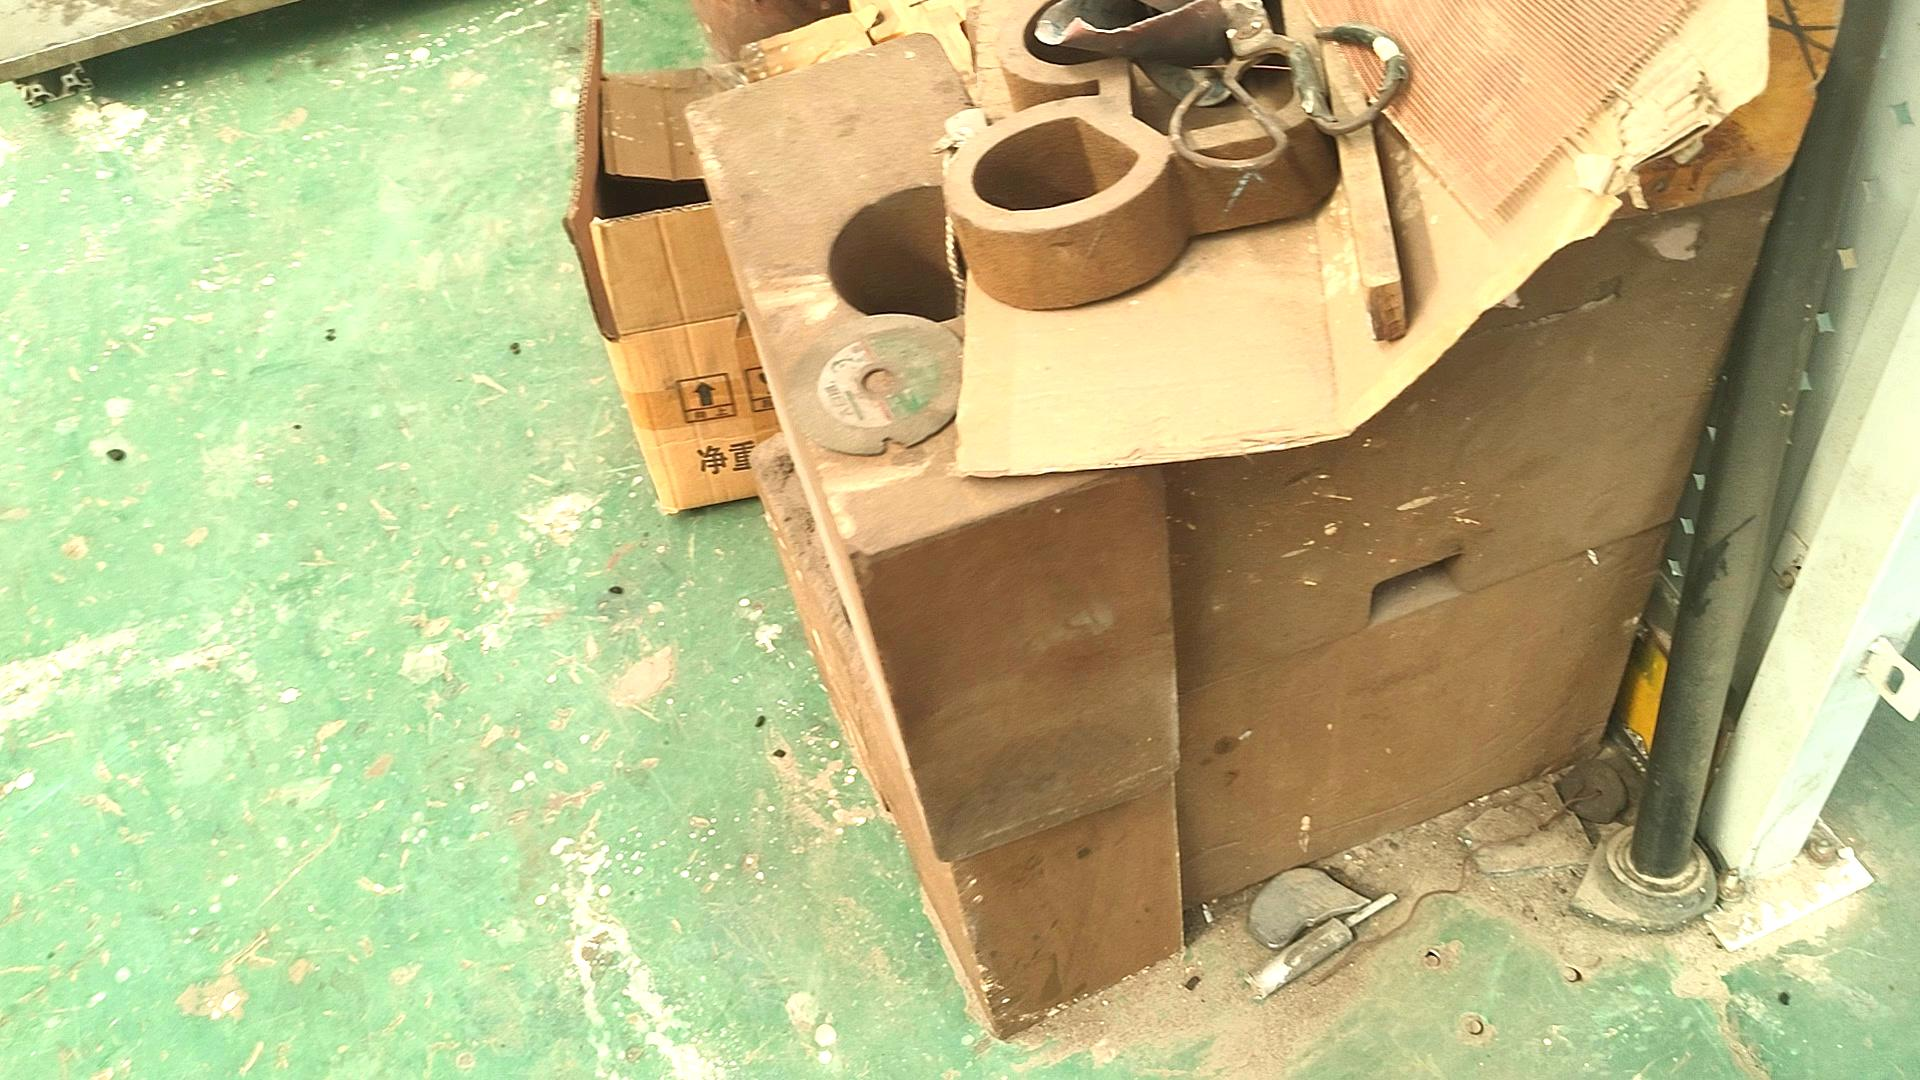pouring hole: (828, 185, 1010, 324)
